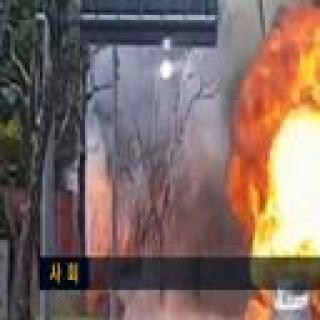fire: (240, 55, 320, 314)
